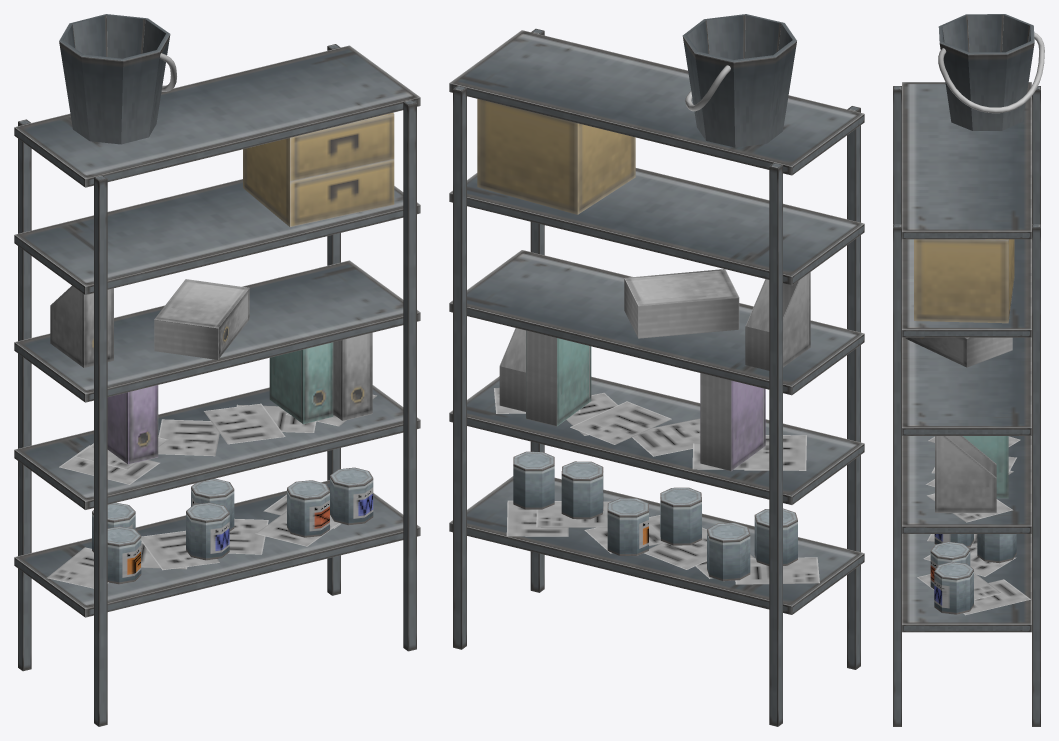
File: Shelf.fbx
3 views of the same model, side by side, from view 1: azimuth 30°, elevation 25°; view 2: azimuth 150°, elevation 25°; view 3: azimuth 270°, elevation 25° (orthographic). The views are drawn at different scales.
Parts seen in each view (by area): view 1: ringbinders.001; view 2: ringbinders.001; view 3: ringbinders.001.
Boxes of the visible parts, left/top/right/bottom form: ringbinders.001: left=14, top=14, right=420, bottom=726; ringbinders.001: left=449, top=14, right=864, bottom=726; ringbinders.001: left=893, top=14, right=1044, bottom=726.
Size of the model in its own units: 202 by 366 by 86.6.
Materials: 2 (2 with a texture image).
